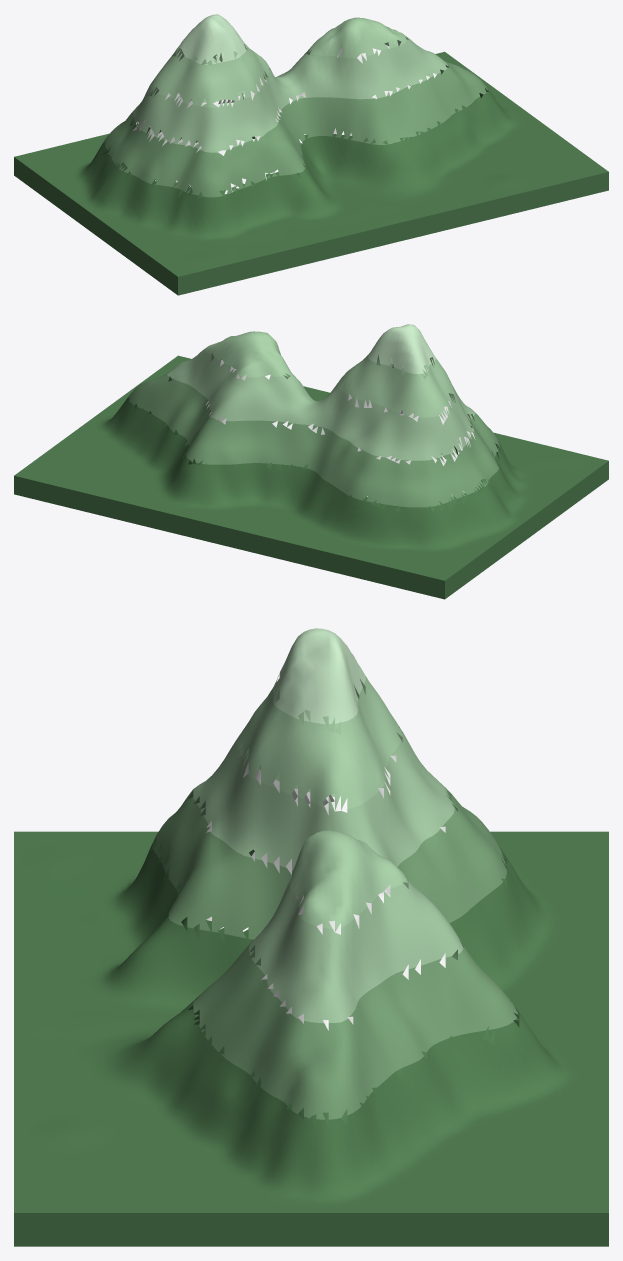
Rendered from hill_v1.fbx.
The picture shows the model from 3 angles, top to bottom: view 1: azimuth 30°, elevation 25°; view 2: azimuth 150°, elevation 25°; view 3: azimuth 270°, elevation 25°; orthographic projection. The views are drawn at different scales.
Parts seen in each view (by area): view 1: Plane001_13, Plane001_12, Plane001_6, Plane001, Plane001_7, Plane001_3, Plane001_11; view 2: Plane001_13, Plane001_12, Plane001_6, Plane001, Plane001_7, Plane001_3, Plane001_11; view 3: Plane001_13, Plane001_12, Plane001_6, Plane001, Plane001_7, Plane001_3, Plane001_11.
Part boxes in pixels (left/top/right/bottom): Plane001_13: left=14, top=51, right=608, bottom=295; Plane001_12: left=104, top=61, right=487, bottom=197; Plane001_6: left=132, top=36, right=447, bottom=152; Plane001: left=150, top=43, right=270, bottom=107; Plane001_7: left=309, top=17, right=406, bottom=58; Plane001_3: left=175, top=14, right=246, bottom=64; Plane001_11: left=132, top=73, right=436, bottom=190; Plane001_13: left=14, top=355, right=608, bottom=599; Plane001_12: left=128, top=372, right=499, bottom=507; Plane001_6: left=167, top=349, right=475, bottom=460; Plane001: left=337, top=354, right=455, bottom=417; Plane001_7: left=205, top=331, right=289, bottom=377; Plane001_3: left=368, top=324, right=435, bottom=374; Plane001_11: left=206, top=401, right=475, bottom=465; Plane001_13: left=14, top=831, right=608, bottom=1246; Plane001_12: left=152, top=787, right=517, bottom=1119; Plane001_6: left=193, top=726, right=463, bottom=1023; Plane001: left=237, top=676, right=402, bottom=809; Plane001_7: left=289, top=830, right=406, bottom=928; Plane001_3: left=273, top=628, right=365, bottom=723; Plane001_11: left=206, top=790, right=445, bottom=1030.
Size of the model in its own units: 176 by 116 by 72.98.
